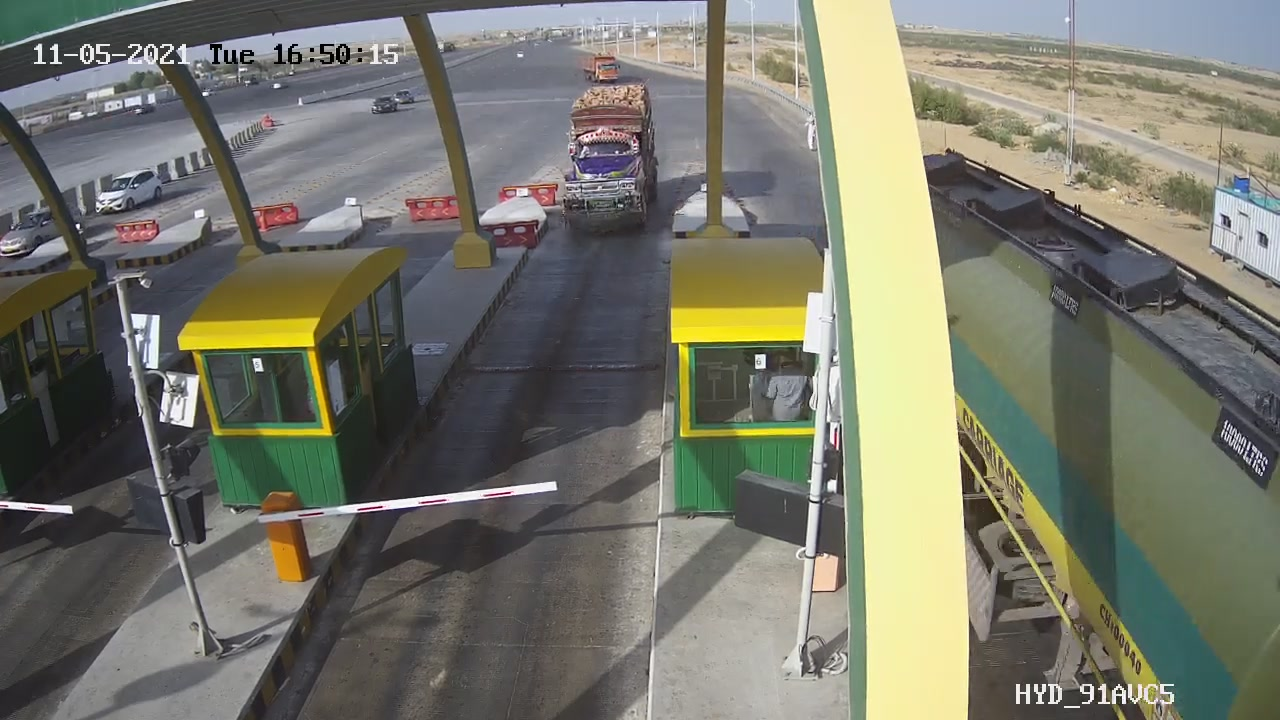F5: (545, 77, 676, 242)
